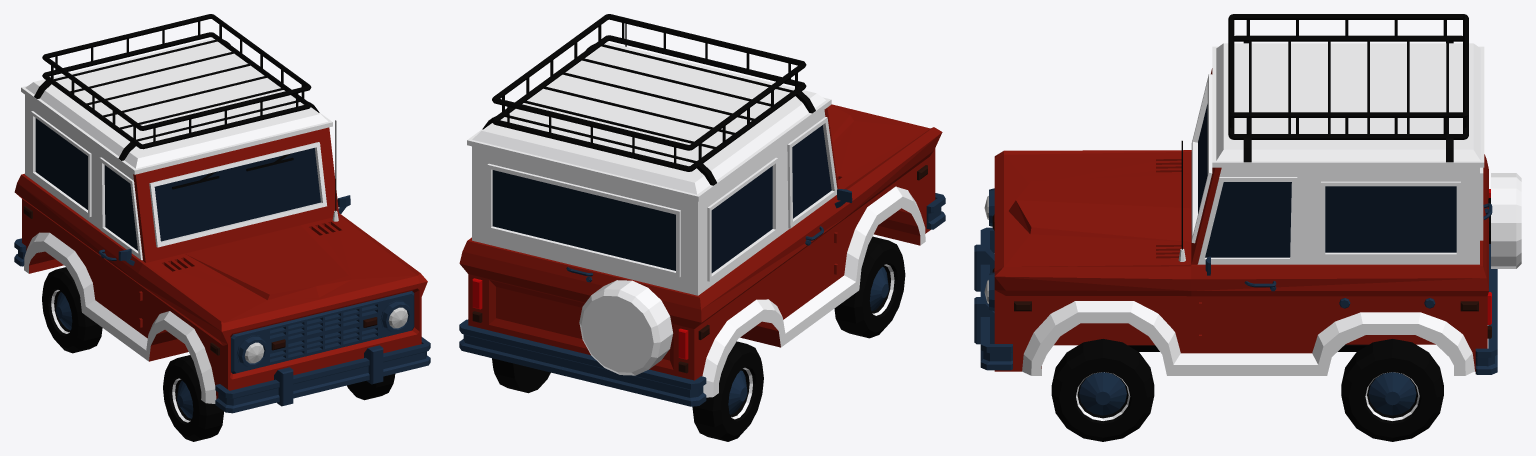
Rendered from car2.glb.
The picture shows the model from 3 angles, left to right: view 1: azimuth 30°, elevation 25°; view 2: azimuth 150°, elevation 25°; view 3: azimuth 270°, elevation 25°; orthographic projection. The views are drawn at different scales.
Visible parts, largest first — view 1: node_id30, node_id33, node_id36, node_id42, node_id39, node_id45, node_id48; view 2: node_id33, node_id30, node_id36, node_id39, node_id42, node_id51, node_id48; view 3: node_id33, node_id30, node_id36, node_id39, node_id42, node_id48.
Part boxes in pixels (bbox=[...]): node_id30: bbox=[14, 127, 427, 398]; node_id33: bbox=[21, 38, 338, 422]; node_id36: bbox=[34, 14, 395, 441]; node_id42: bbox=[14, 195, 430, 418]; node_id39: bbox=[35, 118, 320, 250]; node_id45: bbox=[244, 307, 408, 363]; node_id48: bbox=[23, 206, 377, 355]; node_id33: bbox=[467, 42, 925, 419]; node_id30: bbox=[459, 104, 942, 380]; node_id36: bbox=[482, 14, 905, 441]; node_id39: bbox=[492, 125, 831, 272]; node_id42: bbox=[459, 189, 945, 414]; node_id51: bbox=[472, 278, 688, 359]; node_id48: bbox=[472, 165, 927, 373]; node_id33: bbox=[1022, 43, 1521, 420]; node_id30: bbox=[994, 68, 1488, 371]; node_id36: bbox=[1051, 14, 1490, 441]; node_id39: bbox=[1198, 104, 1456, 257]; node_id42: bbox=[974, 188, 1497, 415]; node_id48: bbox=[992, 214, 1491, 338].
Size of the model in its own units: 0.3006 by 0.335 by 0.514.
8 materials, 8 textured.
